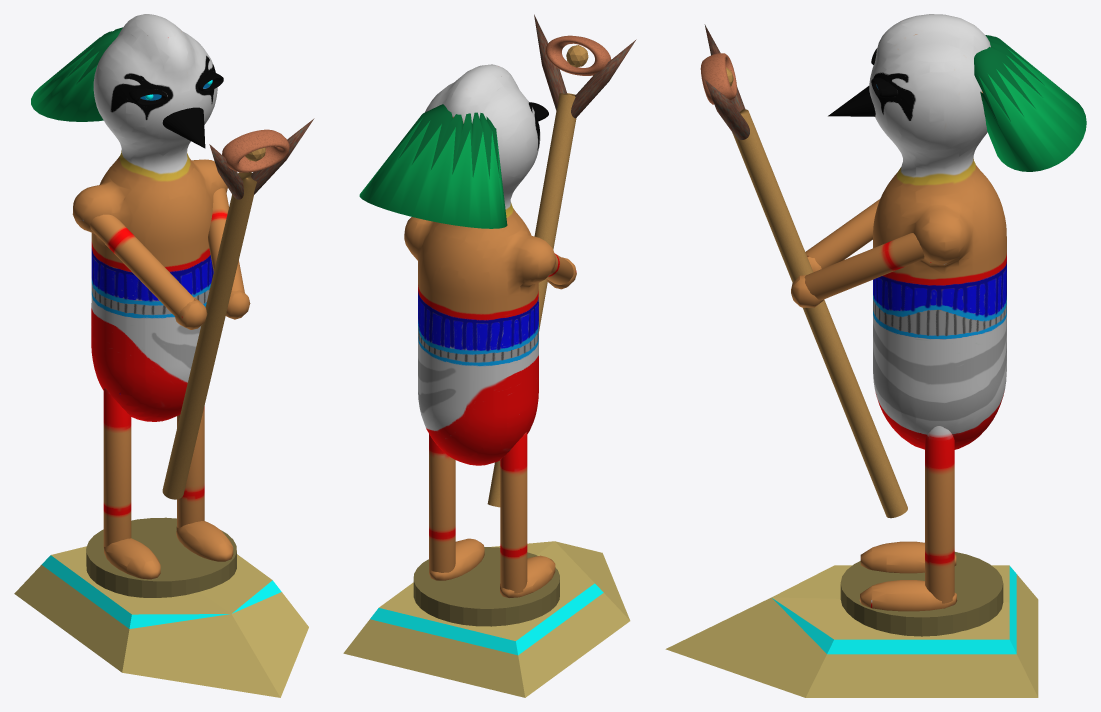
The picture shows the model from 3 angles, left to right: view 1: azimuth 30°, elevation 25°; view 2: azimuth 150°, elevation 25°; view 3: azimuth 270°, elevation 25°; orthographic projection. The views are drawn at different scales.
Parts seen in each view (by area): view 1: Mball.000, Kubus, Cylinder.005, Cylinder, Cylinder.001, Kegel.001, Cylinder.003, Torus.004, Cylinder.002, Cylinder.004, Kegel, Cylinder.006 (+1 smaller); view 2: Mball.000, Kubus, Kegel.001, Cylinder, Cylinder.001, Cylinder.005, Cylinder.002, Torus.004, Cylinder.006, Cylinder.007, Cylinder.003; view 3: Mball.000, Kubus, Kegel.001, Cylinder.005, Cylinder, Cylinder.002, Cylinder.004, Cylinder.003, Torus.004, Cylinder.007, Kegel.
Part boxes in pixels (left/top/right/bottom): Mball.000: left=72, top=14, right=250, bottom=579; Kubus: left=14, top=546, right=308, bottom=697; Cylinder.005: left=162, top=172, right=256, bottom=499; Cylinder: left=86, top=517, right=236, bottom=597; Cylinder.001: left=103, top=388, right=131, bottom=547; Kegel.001: left=31, top=27, right=122, bottom=121; Cylinder.003: left=90, top=214, right=194, bottom=315; Torus.004: left=222, top=129, right=289, bottom=172; Cylinder.002: left=177, top=406, right=204, bottom=527; Cylinder.004: left=208, top=188, right=244, bottom=292; Kegel: left=162, top=107, right=205, bottom=148; Cylinder.006: left=209, top=144, right=243, bottom=199; Mball.000: left=404, top=64, right=576, bottom=597; Kubus: left=343, top=541, right=630, bottom=697; Kegel.001: left=359, top=104, right=507, bottom=228; Cylinder: left=413, top=547, right=559, bottom=626; Cylinder.001: left=500, top=432, right=527, bottom=593; Cylinder.005: left=487, top=93, right=576, bottom=507; Cylinder.002: left=429, top=434, right=455, bottom=572; Torus.004: left=545, top=35, right=611, bottom=75; Cylinder.006: left=571, top=39, right=636, bottom=118; Cylinder.007: left=534, top=14, right=567, bottom=110; Cylinder.003: left=546, top=253, right=573, bottom=284; Mball.000: left=791, top=14, right=1006, bottom=611; Kubus: left=665, top=565, right=1038, bottom=697; Kegel.001: left=974, top=35, right=1086, bottom=171; Cylinder.005: left=732, top=109, right=907, bottom=518; Cylinder: left=840, top=552, right=1003, bottom=636; Cylinder.002: left=925, top=426, right=954, bottom=603; Cylinder.004: left=804, top=233, right=924, bottom=300; Cylinder.003: left=805, top=199, right=879, bottom=268; Torus.004: left=700, top=53, right=736, bottom=104; Cylinder.007: left=705, top=80, right=749, bottom=139; Kegel: left=828, top=86, right=875, bottom=116.
Bounding box in the file's own units: 400 × 1199 × 724.
